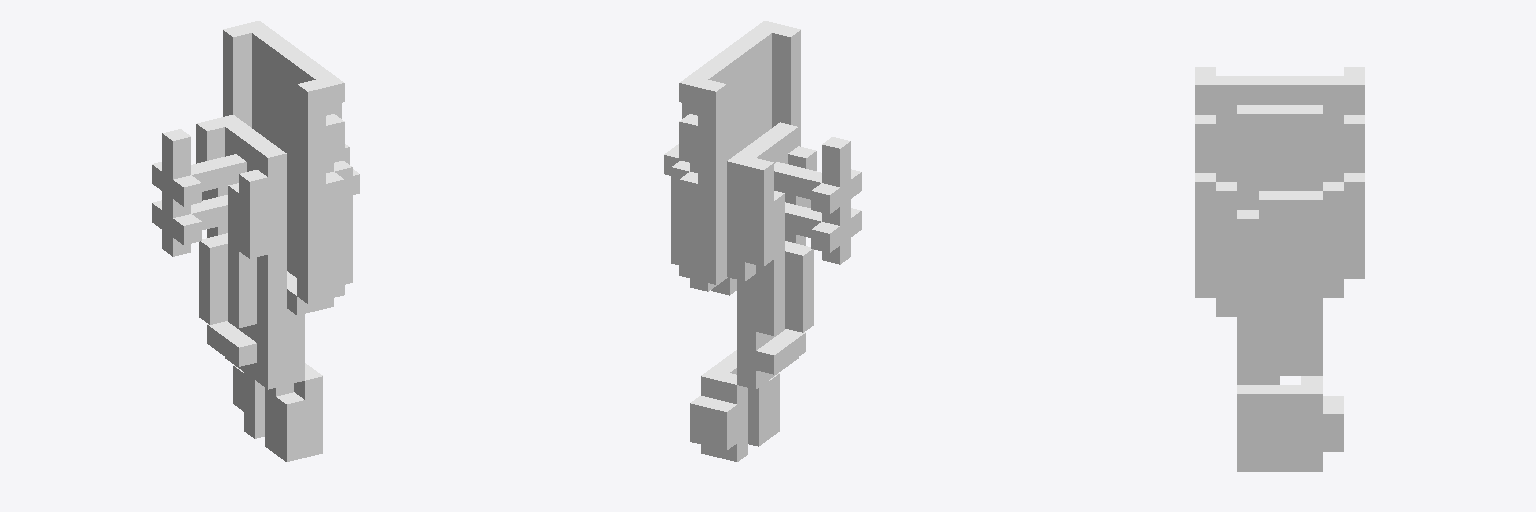
File: Leg-40.obj
3 views of the same model, side by side, from view 1: azimuth 30°, elevation 25°; view 2: azimuth 150°, elevation 25°; view 3: azimuth 270°, elevation 25° (orthographic).
Parts seen in each view (by area): view 1: object 1; view 2: object 1; view 3: object 1.
Boxes of the visible parts, <box> form: object 1: <box>152,21,359,461</box>; object 1: <box>664,21,861,461</box>; object 1: <box>1195,67,1364,471</box>.
Size of the model in its own units: 0.9 by 2 by 0.8.